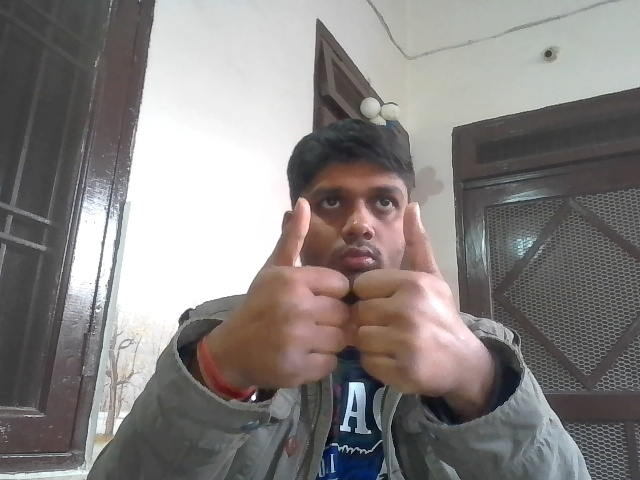Excellent: (227, 196, 467, 416)
